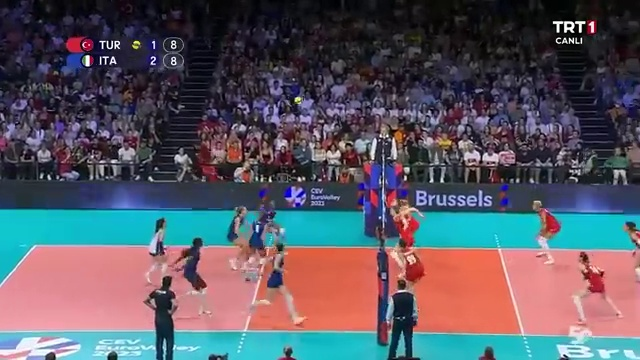ball: (291, 94, 305, 107)
